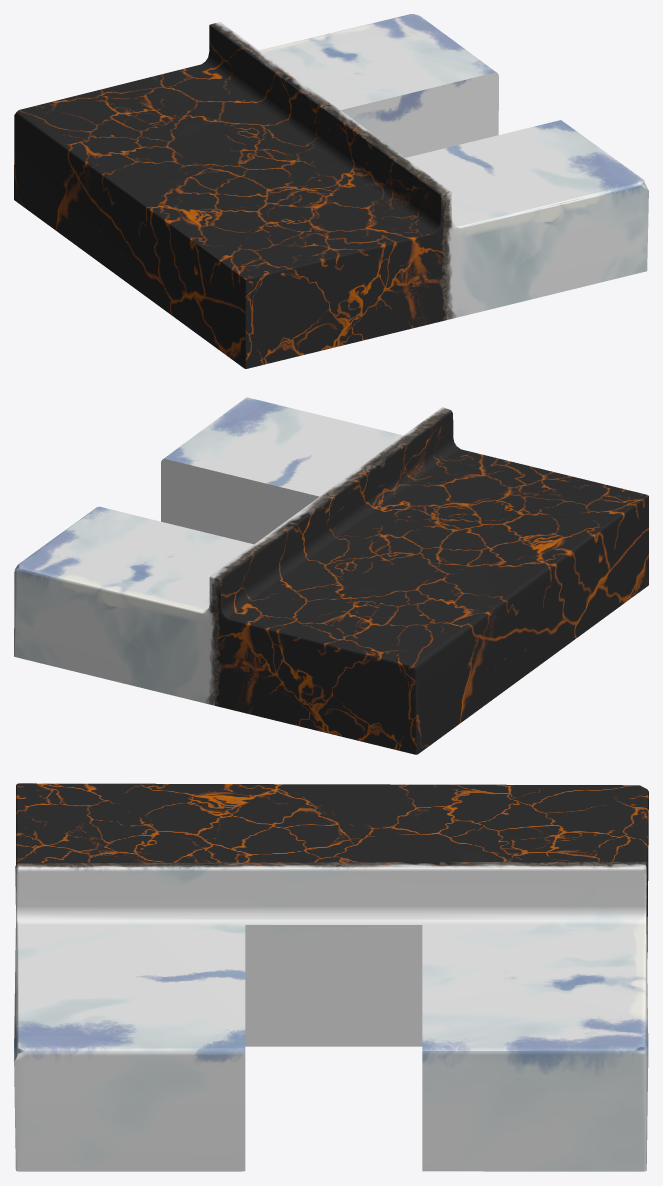
The model's file is ground_lvl10.fbx.
The picture shows the model from 3 angles, top to bottom: view 1: azimuth 30°, elevation 25°; view 2: azimuth 150°, elevation 25°; view 3: azimuth 270°, elevation 25°; orthographic projection. The views are drawn at different scales.
Parts seen in each view (by area): view 1: Ground_lvl10; view 2: Ground_lvl10; view 3: Ground_lvl10.
Part boxes in pixels (<box>): Ground_lvl10: <box>14,14,648,368</box>; Ground_lvl10: <box>14,397,648,754</box>; Ground_lvl10: <box>14,783,648,1171</box>.
Size of the model in its own units: 7.44 by 2.25 by 7.46.
